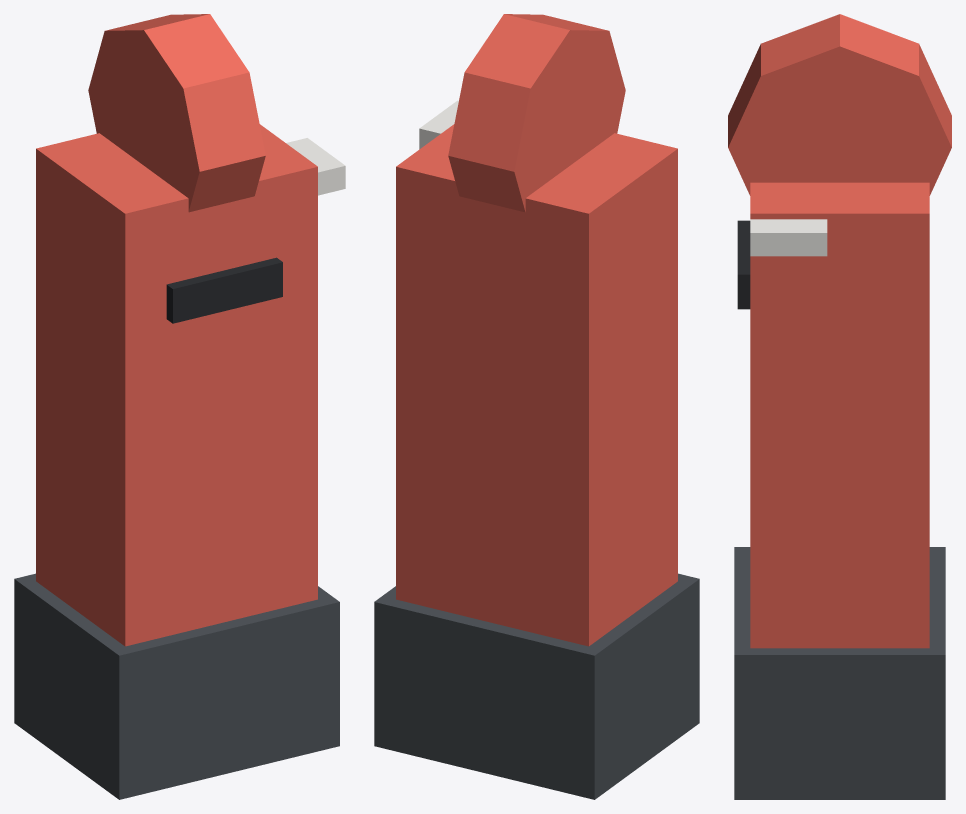
Rendered from prop.postbox.glb.
3 renders of one model, left to right at view 1: azimuth 30°, elevation 25°; view 2: azimuth 150°, elevation 25°; view 3: azimuth 270°, elevation 25°, orthographic.
Visible parts, largest first — view 1: prop.postbox; view 2: prop.postbox; view 3: prop.postbox.
Boxes of the visible parts, x1,y1,x2,y2 form: prop.postbox: (14,14,345,799); prop.postbox: (374,14,699,799); prop.postbox: (728,14,951,799).
Bounding box in the file's own units: 0.425 × 1.23 × 0.35.
